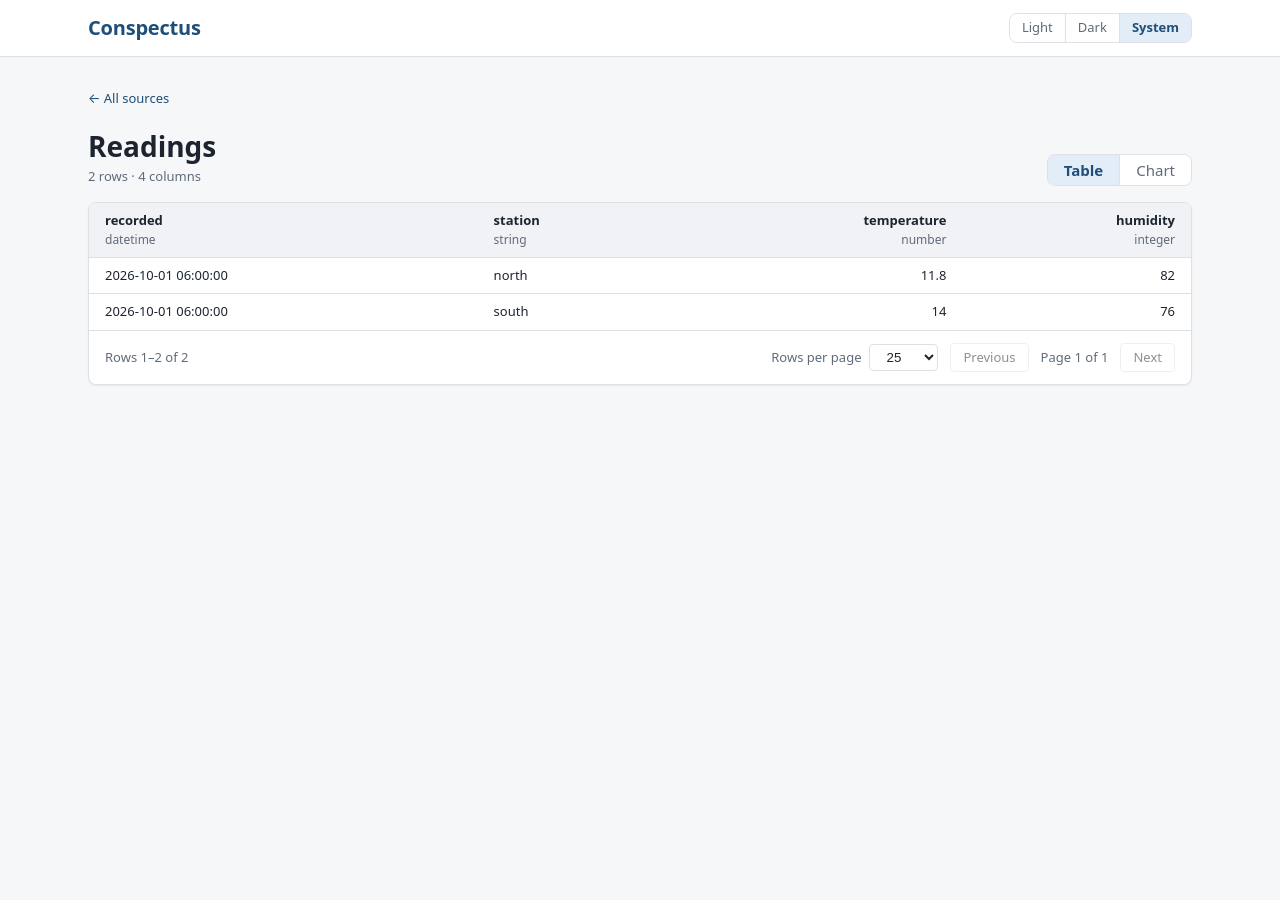
Test: ChartView › switches between table and chart
The image size is (1280, 900).
What coordinates should you click on to do the following:
click the button "Chart"
I would click on:
 (1155, 170)
Its box is [1119,154,1191,185].
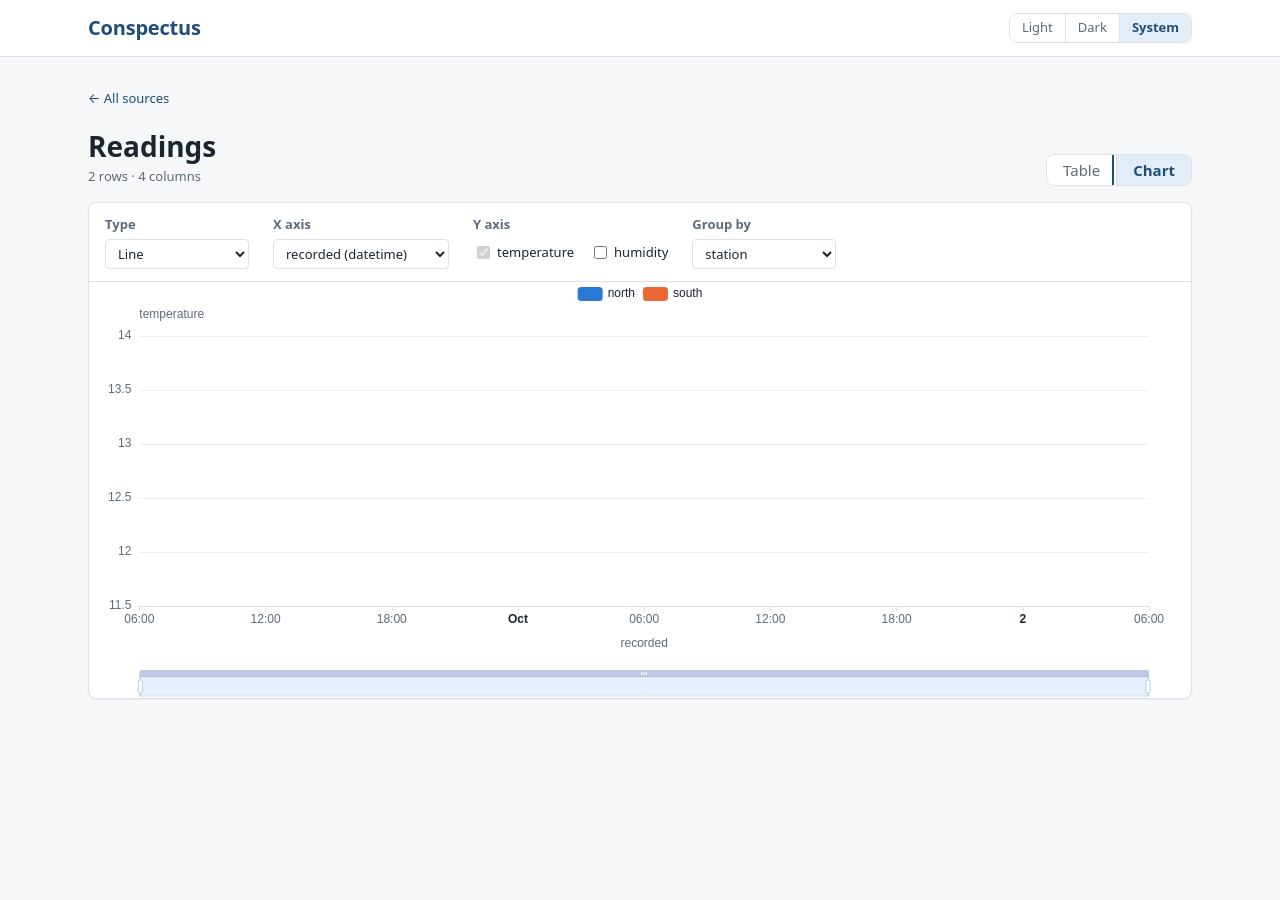
Expected: the button "Chart" is pressed, [1116,154,1191,185]
What coordinates should you click on to do the following:
click the button "Table"
I would click on:
 (1082, 170)
Its box is [1047,154,1116,185].
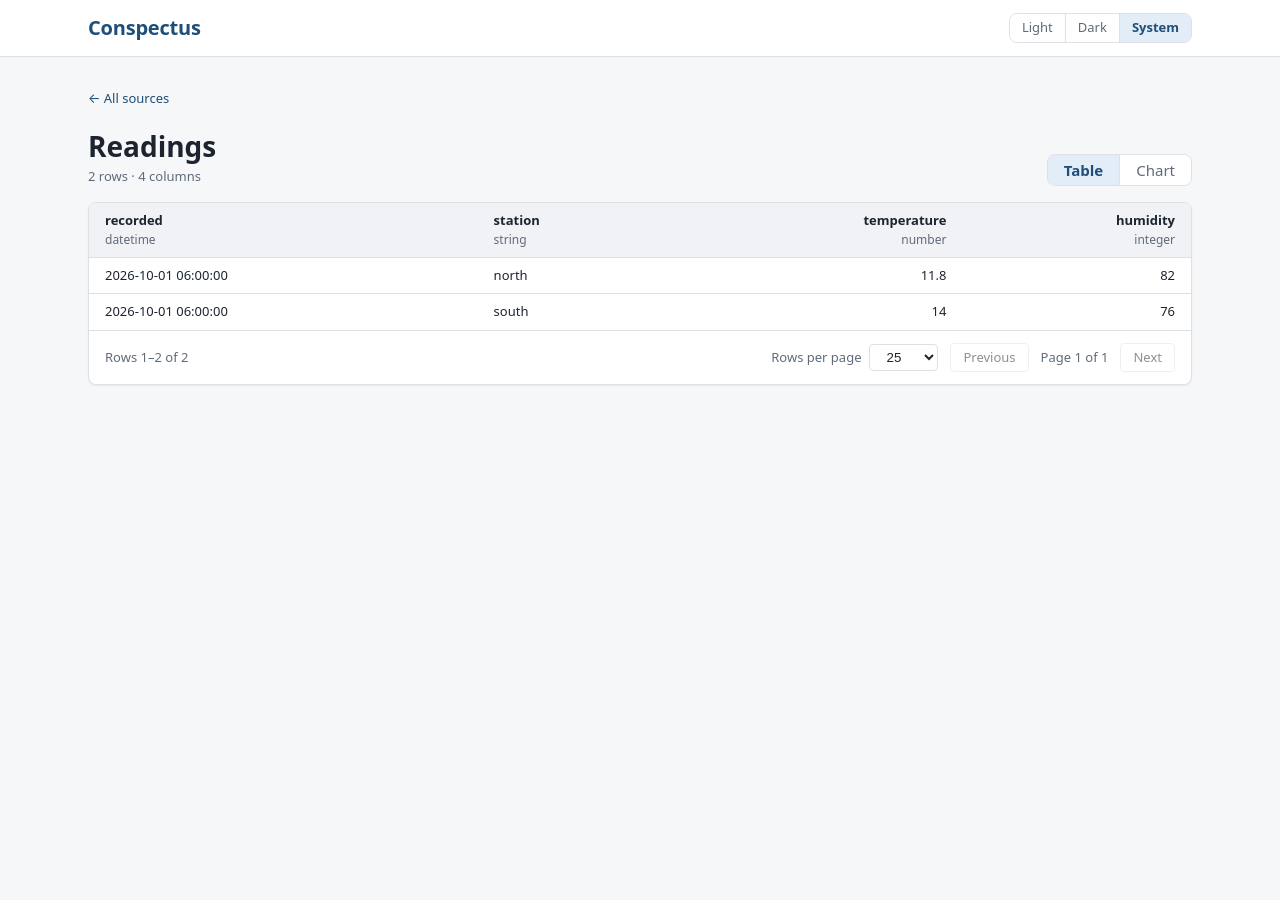
Expected: the table is shown, [89,203,1191,330]
